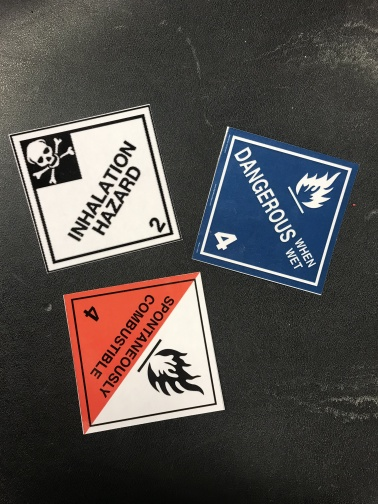DangerousWhenWet: (193, 125, 357, 296)
InhalationHazard: (9, 104, 181, 271)
SpontaneouslyCombustible: (64, 271, 226, 435)
